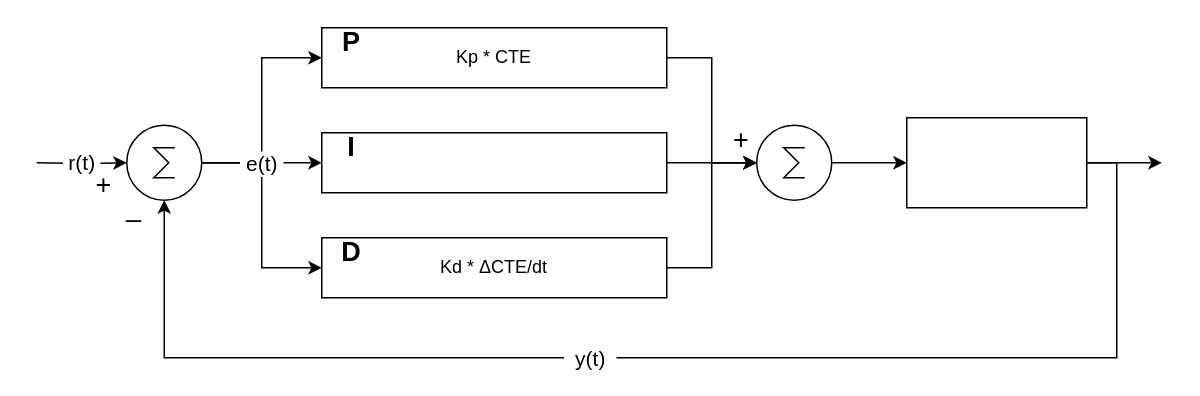
Some shapes in this 1200 by 396 pixel diagram are drawn without their labels. Each missing label, with the box of its shape:
Ki * CTE * dt: (320, 131, 667, 193)
PLANT: (905, 116, 1087, 208)
